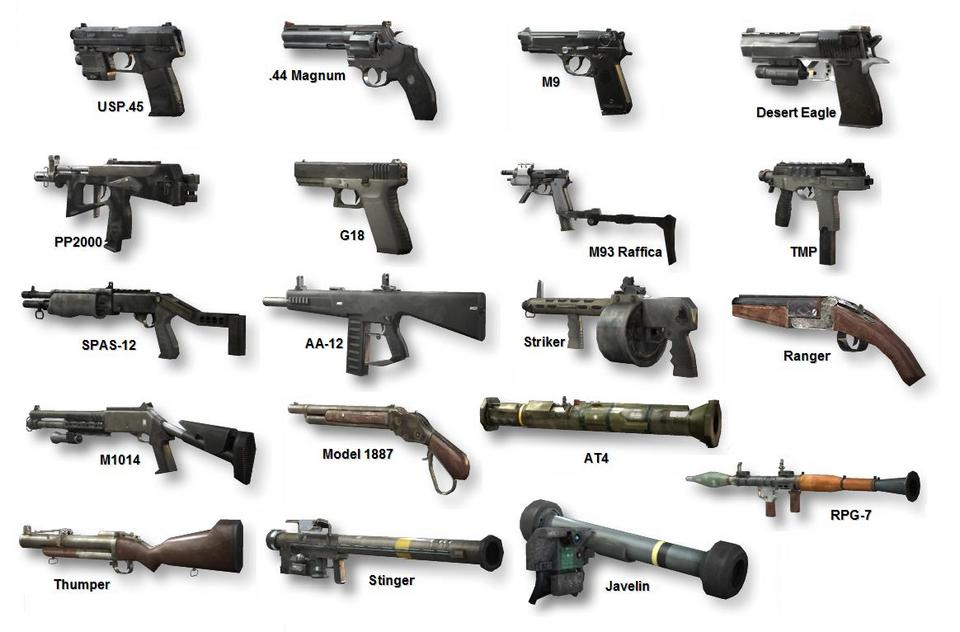weapon: (27, 403, 261, 491), (20, 283, 253, 368), (730, 291, 927, 389), (276, 15, 447, 126), (29, 151, 202, 256), (285, 399, 469, 496), (737, 27, 890, 136), (62, 20, 196, 121), (288, 155, 425, 253), (516, 27, 639, 117)
